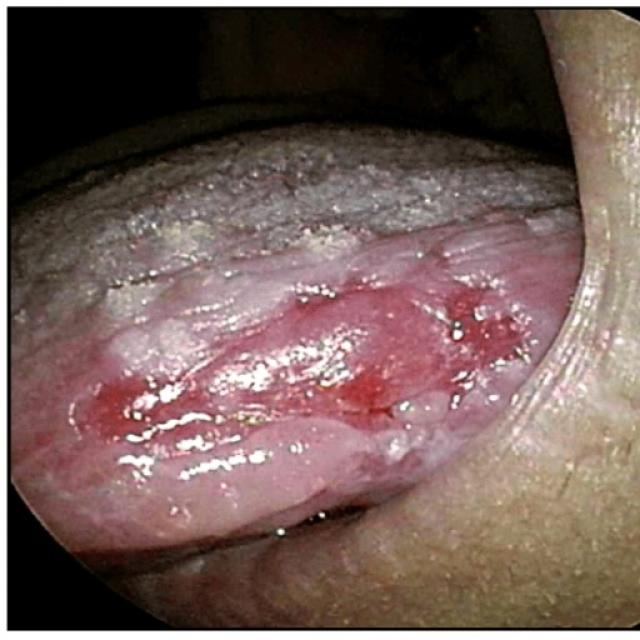cancer-detection: (21, 238, 556, 490)
processing_area: (9, 133, 579, 556)
